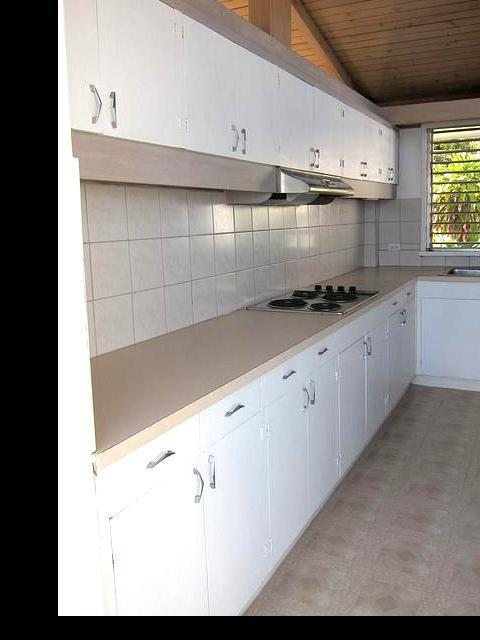Lavaplatos: (441, 247, 480, 282)
